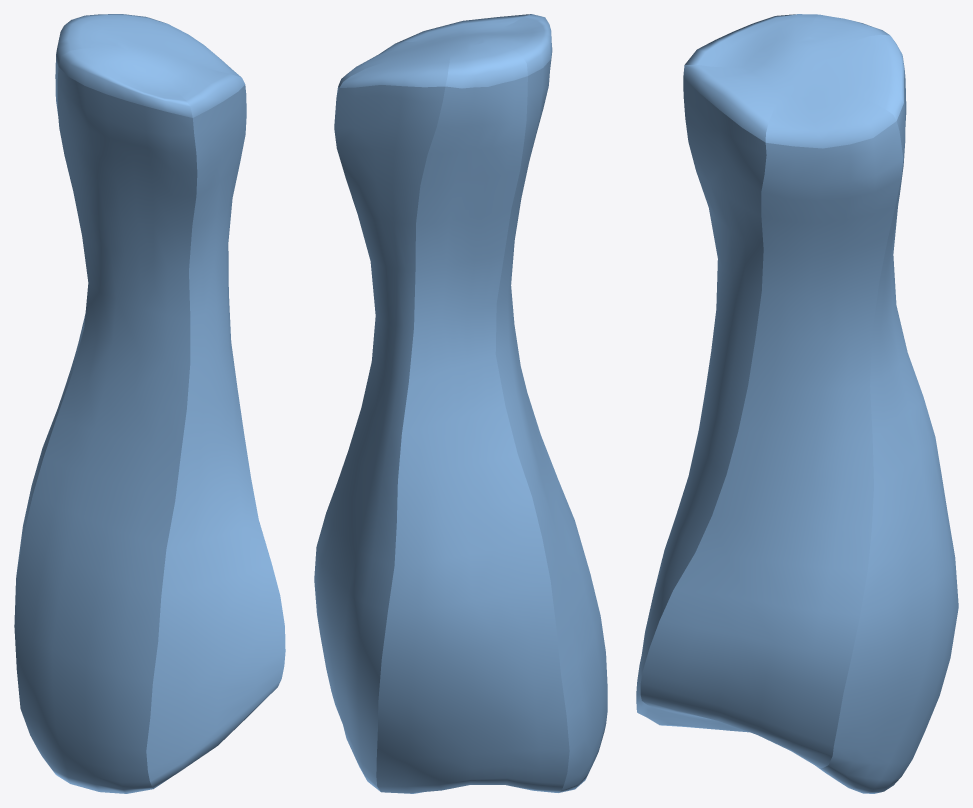
File: body_LeftLeg.glb
3 views of the same model, side by side, from view 1: azimuth 30°, elevation 25°; view 2: azimuth 150°, elevation 25°; view 3: azimuth 270°, elevation 25° (orthographic). The views are drawn at different scales.
Parts seen in each view (by area): view 1: mixamorig:LeftLeg; view 2: mixamorig:LeftLeg; view 3: mixamorig:LeftLeg.
Part boxes in pixels (<box>): mixamorig:LeftLeg: <box>14,14,285,793</box>; mixamorig:LeftLeg: <box>314,14,607,793</box>; mixamorig:LeftLeg: <box>636,14,958,793</box>.
Bounding box in the file's own units: 0.1443 × 0.4218 × 0.1689.
